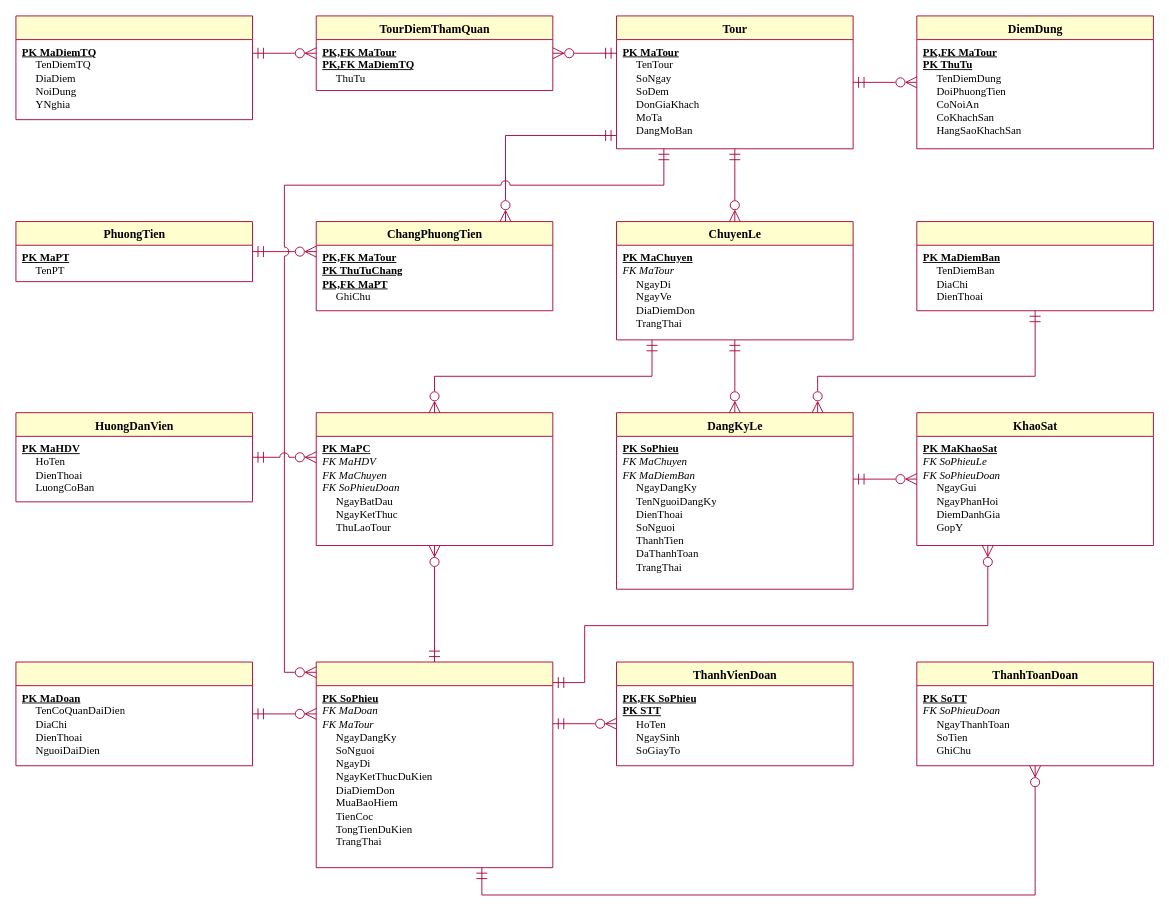
Some shapes in this 1169 by 923 pixel diagram are drawn without their labels. Each missing label, with the box of its shape:
DangKyDoan: (315, 661, 553, 868)
DiemBanVe: (916, 221, 1153, 311)
DiemThamQuan: (15, 15, 253, 120)
DoanKhach: (15, 661, 253, 766)
PhanCongHDV: (315, 412, 553, 546)
